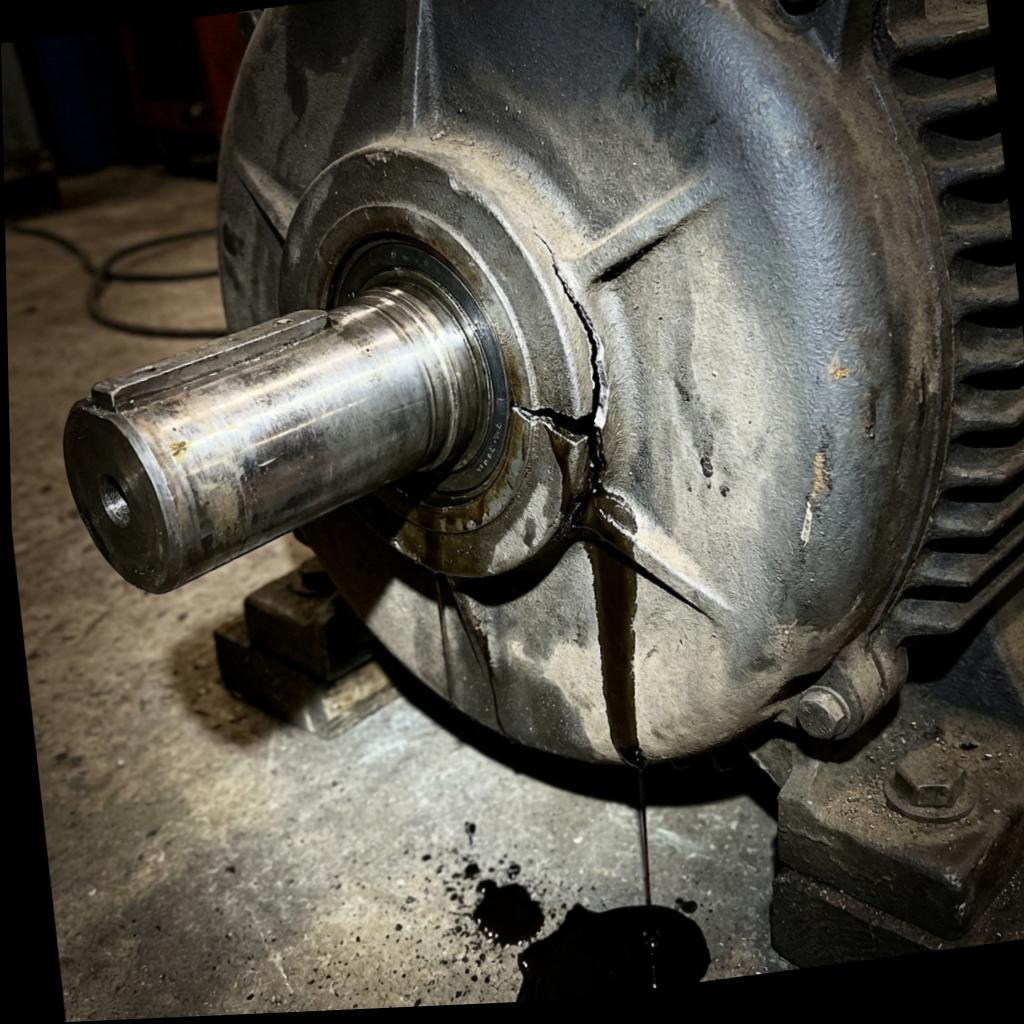leak: (466, 418, 709, 1002)
